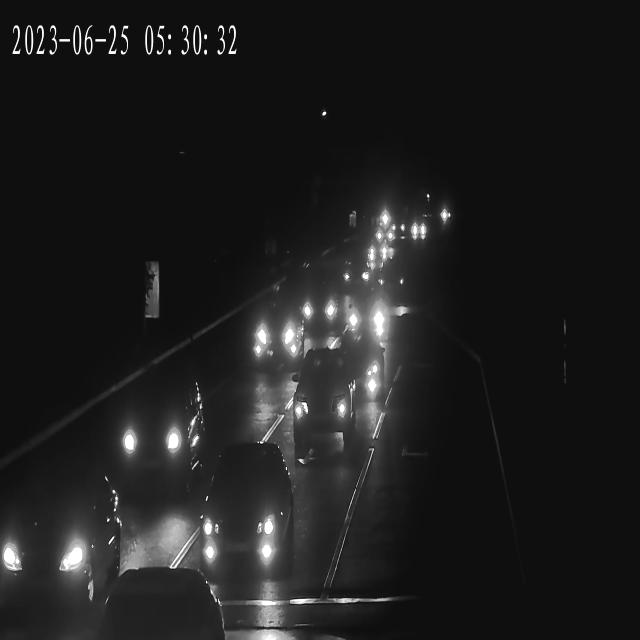Car: (3, 468, 123, 617), (205, 437, 293, 579), (118, 362, 207, 498), (101, 573, 215, 640), (294, 349, 352, 467), (250, 298, 307, 369), (336, 334, 389, 405), (300, 268, 342, 340), (344, 289, 390, 340), (338, 257, 371, 289), (365, 242, 390, 269), (407, 218, 427, 246), (371, 227, 395, 247), (376, 224, 394, 242)
